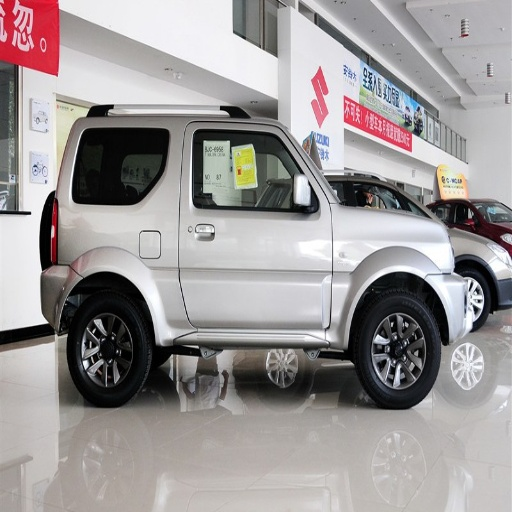back_right_door: (176, 121, 264, 327)
trunk: (149, 271, 185, 341)
